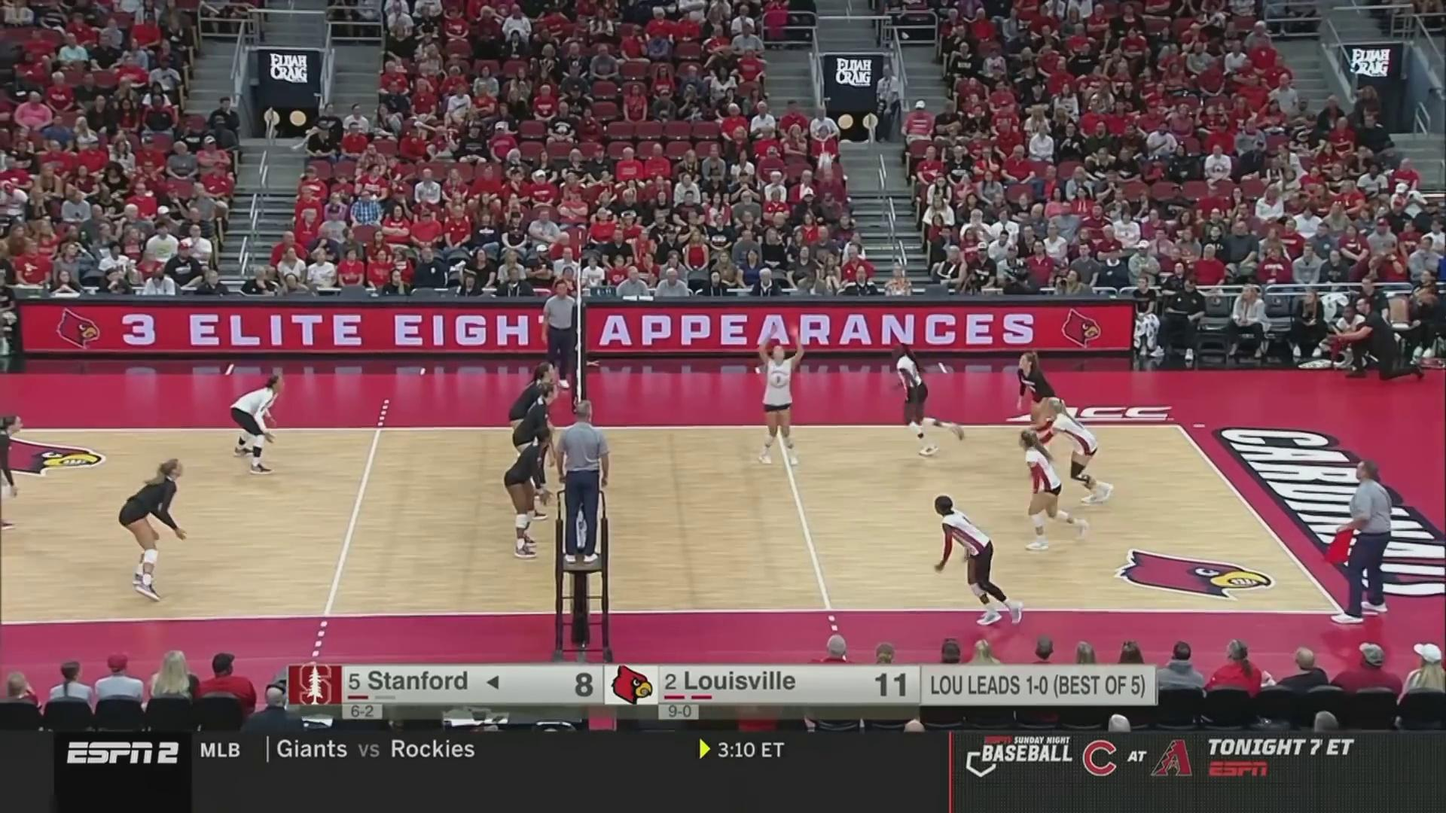player: (934, 495, 1022, 624), (1026, 398, 1115, 505), (119, 458, 184, 599), (1018, 430, 1092, 552), (888, 342, 965, 455), (752, 326, 806, 465), (504, 427, 553, 559), (512, 385, 559, 520), (228, 374, 286, 477), (1013, 352, 1061, 463), (510, 364, 554, 477), (0, 413, 25, 533)
refree: (1329, 460, 1395, 625), (555, 401, 610, 565), (540, 282, 579, 386)
